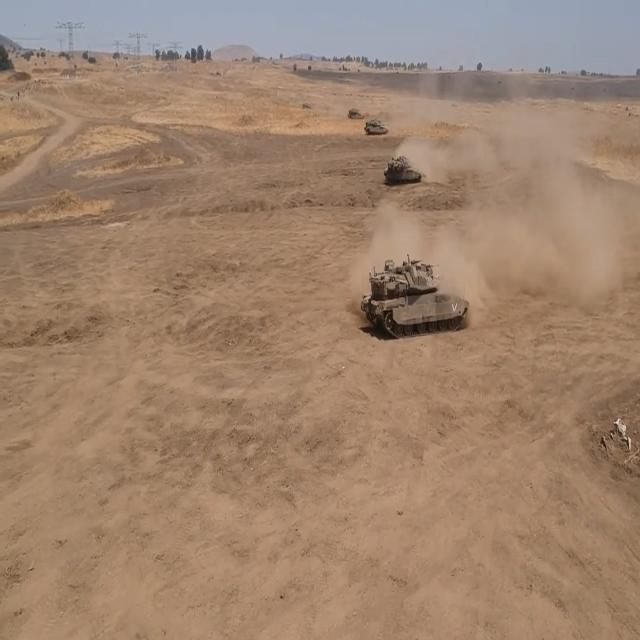tank: (361, 258, 472, 335), (383, 142, 429, 189), (362, 108, 392, 141), (347, 99, 365, 122)
